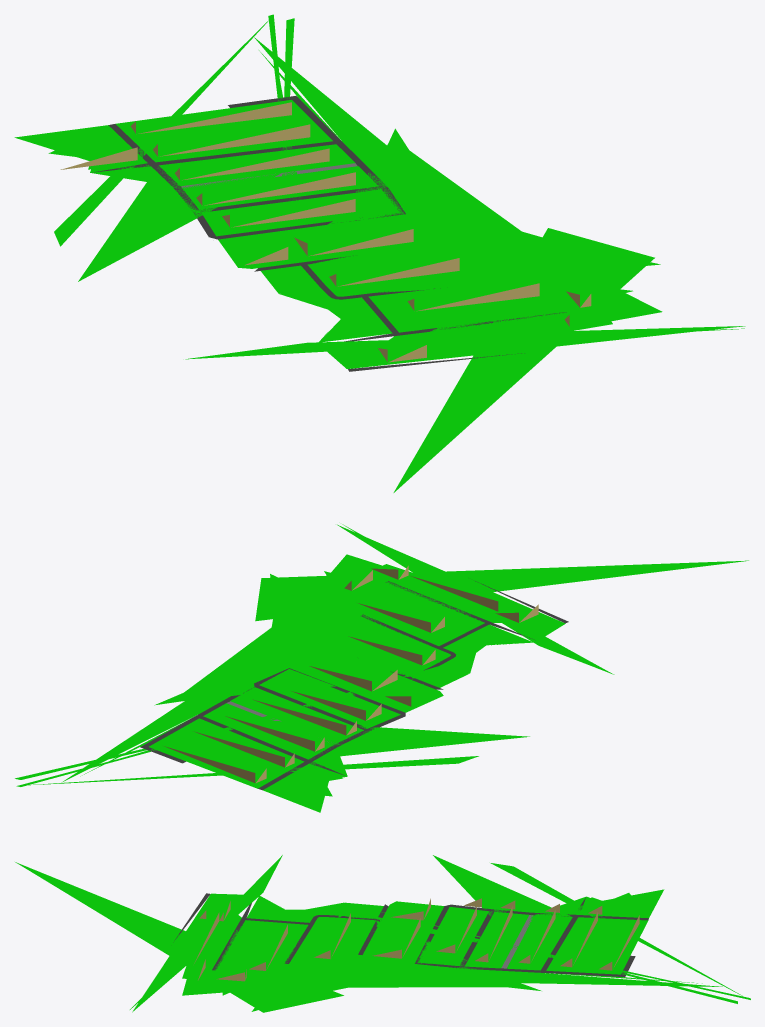
The picture shows the model from 3 angles, top to bottom: view 1: azimuth 30°, elevation 25°; view 2: azimuth 150°, elevation 25°; view 3: azimuth 270°, elevation 25°; orthographic projection. The views are drawn at different scales.
Bounding box in the file's own units: 300 × 7.5 × 544.
